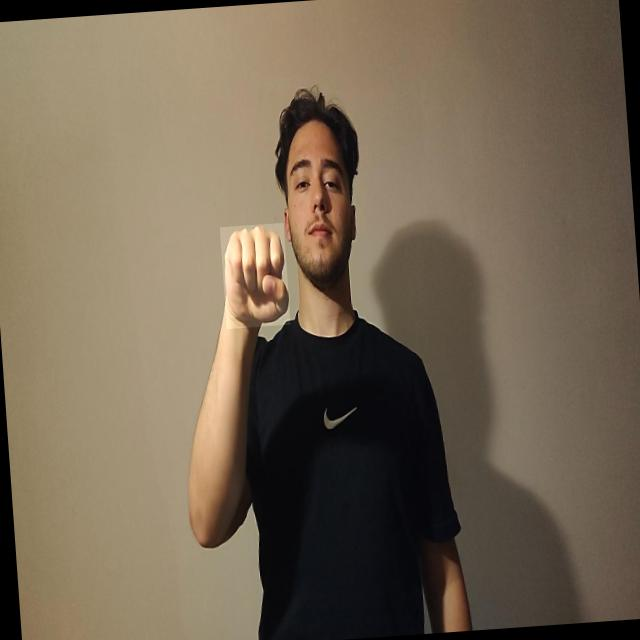yes: (220, 222, 290, 328)
